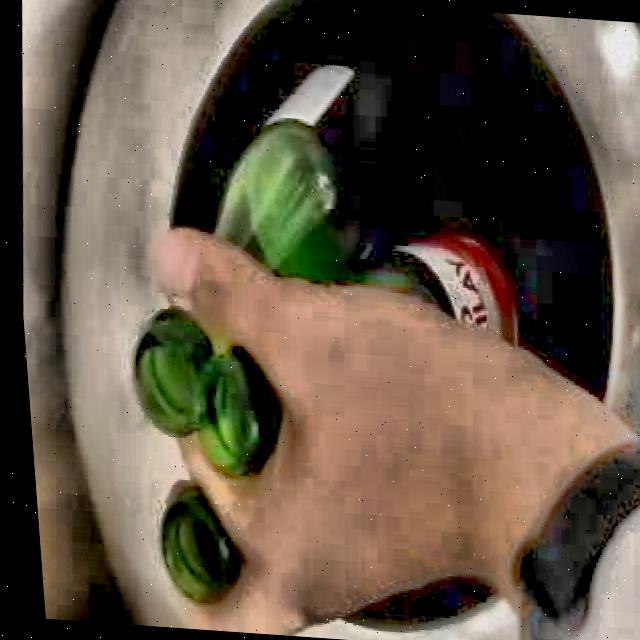glass: (211, 62, 513, 342), (130, 304, 278, 475), (153, 483, 234, 605)
